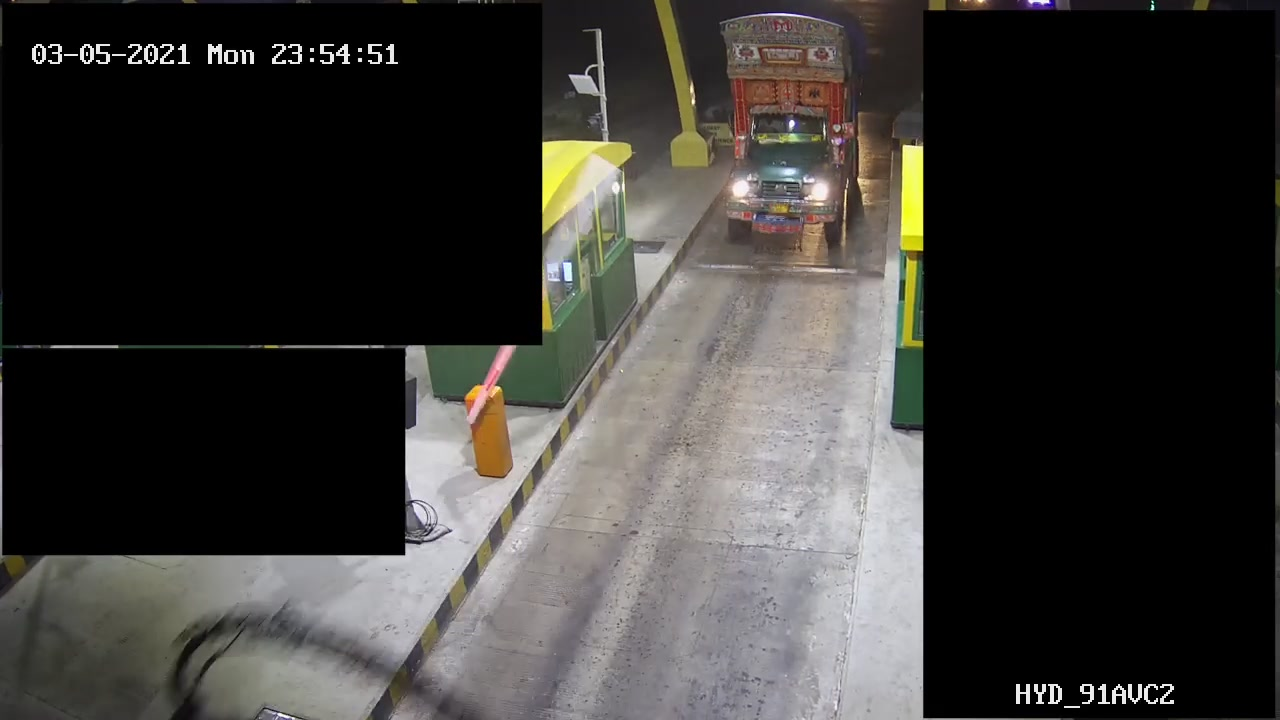F5: (715, 1, 873, 256)
